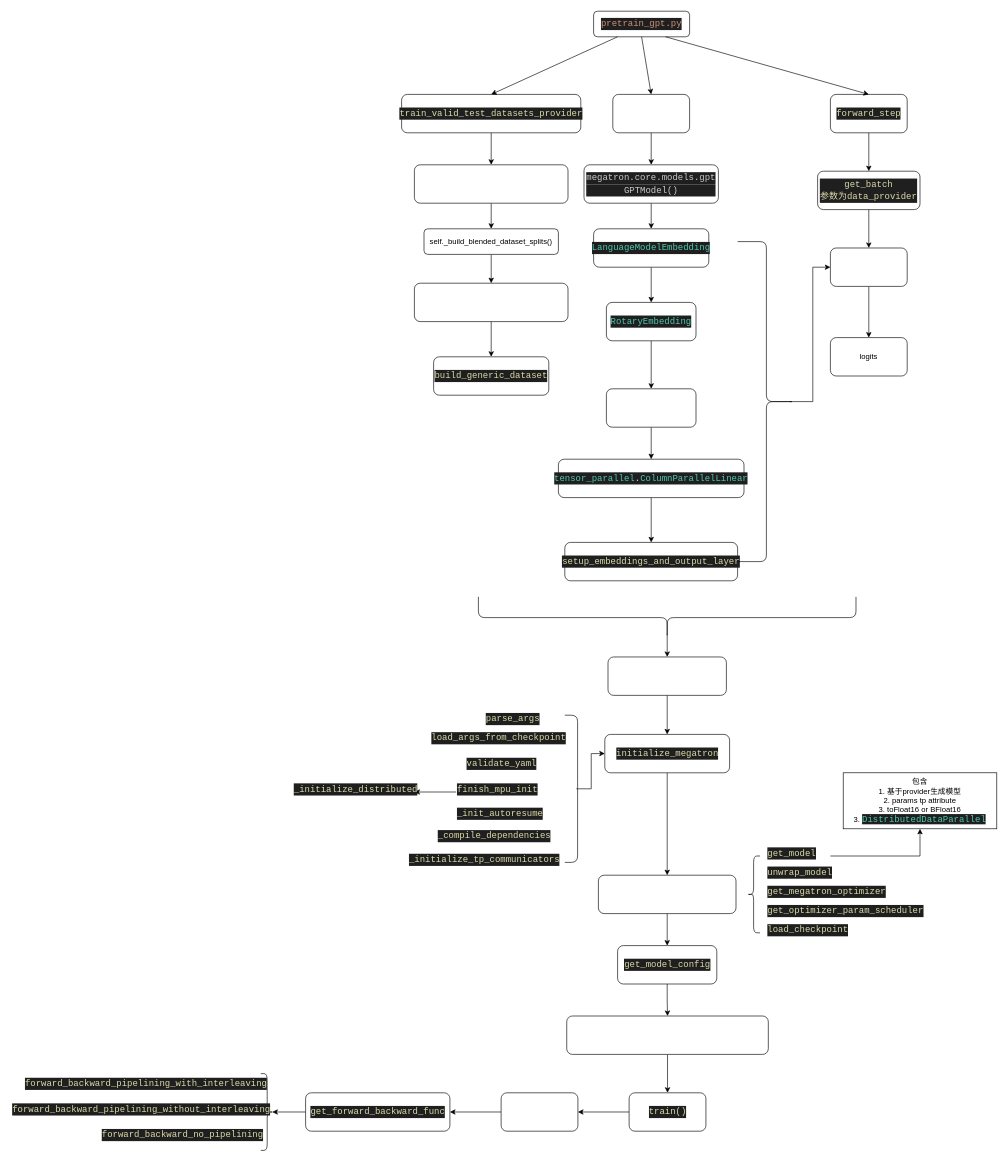
Image size: 1008x1162. Some labels were removed from this diagram. The centre of each missing label's shape, as x and y in pixels:
"_build_megatron_dataset_splits" goes at pixel 491 302.
"build_train_valid_test_data_iterators" goes at pixel 667 1034.
"megatron.core.dataset BlendedMegatronDatasetBuilder" goes at pixel 491 183.
"megatron.training pretrain()" goes at pixel 666 675.
"model forward" goes at pixel 868 266.
"model_provider" goes at pixel 651 113.
"setup_model_and_optimizer" goes at pixel 667 894.
"train_step()" goes at pixel 539 1111.
"TransformerBlock" goes at pixel 651 407.
